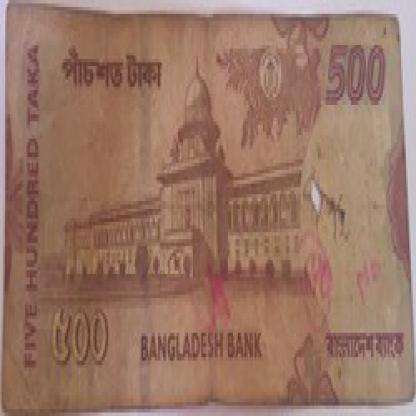500 taka: (52, 42, 178, 114), (43, 284, 130, 382)
